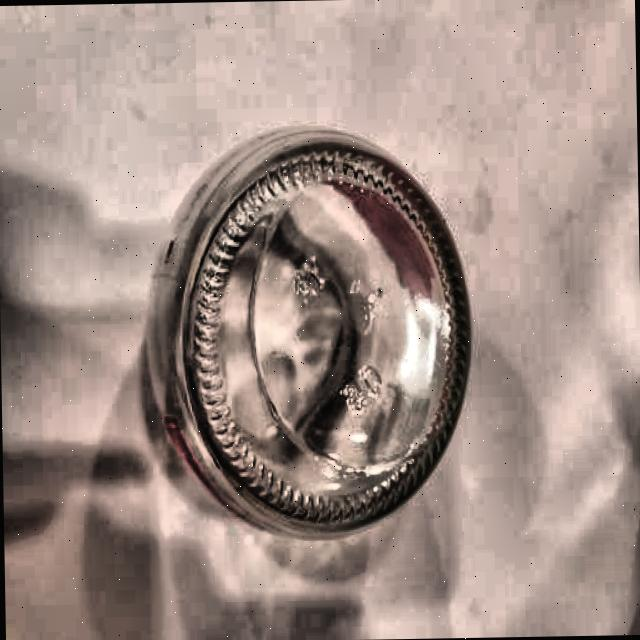glass: (136, 124, 474, 550)
